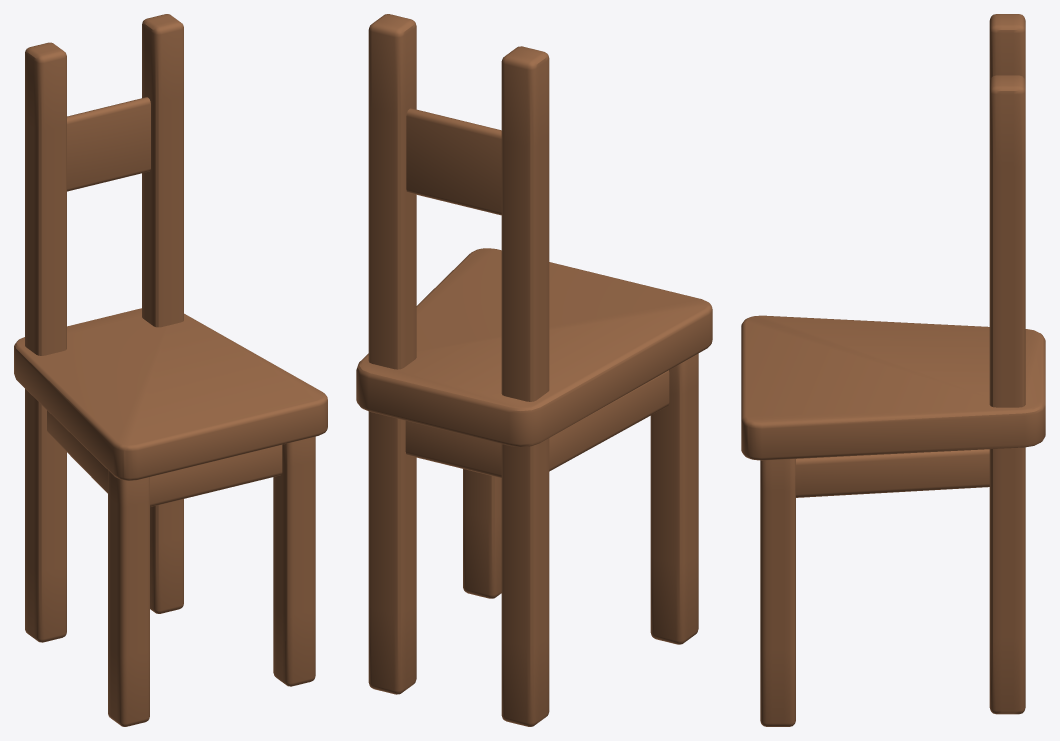
The model's file is KRZESLO.fbx.
3 renders of one model, left to right at view 1: azimuth 30°, elevation 25°; view 2: azimuth 150°, elevation 25°; view 3: azimuth 270°, elevation 25°, orthographic. The views are drawn at different scales.
Parts seen in each view (by area): view 1: Cube.039, Cube.036, Cube.041, Cube.040, Cube.042, Cube.044; view 2: Cube.039, Cube.036, Cube.041, Cube.040, Cube.044, Cube.042; view 3: Cube.036, Cube.039, Cube.041, Cube.043.
Boxes of the visible parts, x1=… form: Cube.039: x1=25, y1=14, x2=183, y2=642; Cube.036: x1=14, y1=308, x2=327, y2=480; Cube.041: x1=108, y1=436, x2=315, y2=726; Cube.040: x1=67, y1=97, x2=150, y2=191; Cube.042: x1=150, y1=445, x2=282, y2=506; Cube.044: x1=47, y1=410, x2=107, y2=493; Cube.039: x1=368, y1=14, x2=549, y2=726; Cube.036: x1=356, y1=248, x2=712, y2=447; Cube.041: x1=463, y1=353, x2=698, y2=644; Cube.040: x1=406, y1=108, x2=501, y2=215; Cube.044: x1=549, y1=370, x2=669, y2=471; Cube.042: x1=405, y1=420, x2=501, y2=478; Cube.036: x1=741, y1=315, x2=1045, y2=460; Cube.039: x1=989, y1=14, x2=1025, y2=714; Cube.041: x1=760, y1=459, x2=795, y2=726; Cube.043: x1=796, y1=449, x2=989, y2=497.
Size of the model in its own units: 243 by 644 by 283.
